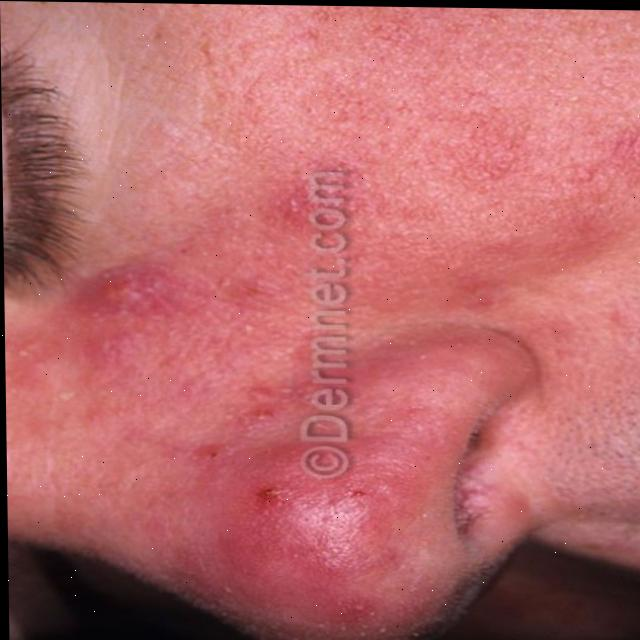Rosacea: (24, 232, 450, 640)
